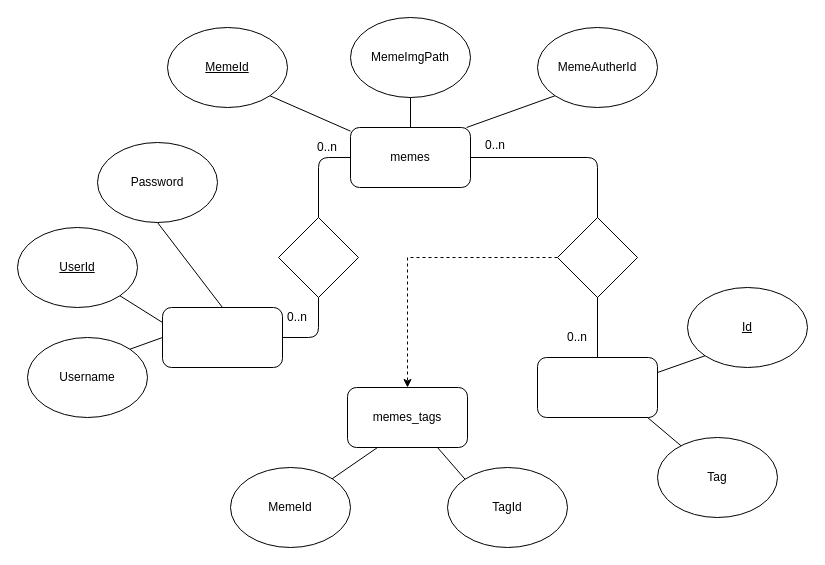
Image size: 825x565. Some labels were removed from this diagram. Each missing label, with the centre of its shape:
"has" goes at (x=597, y=257).
"tags" goes at (x=597, y=387).
"uploads meme" goes at (x=318, y=257).
"users" goes at (x=222, y=337).
